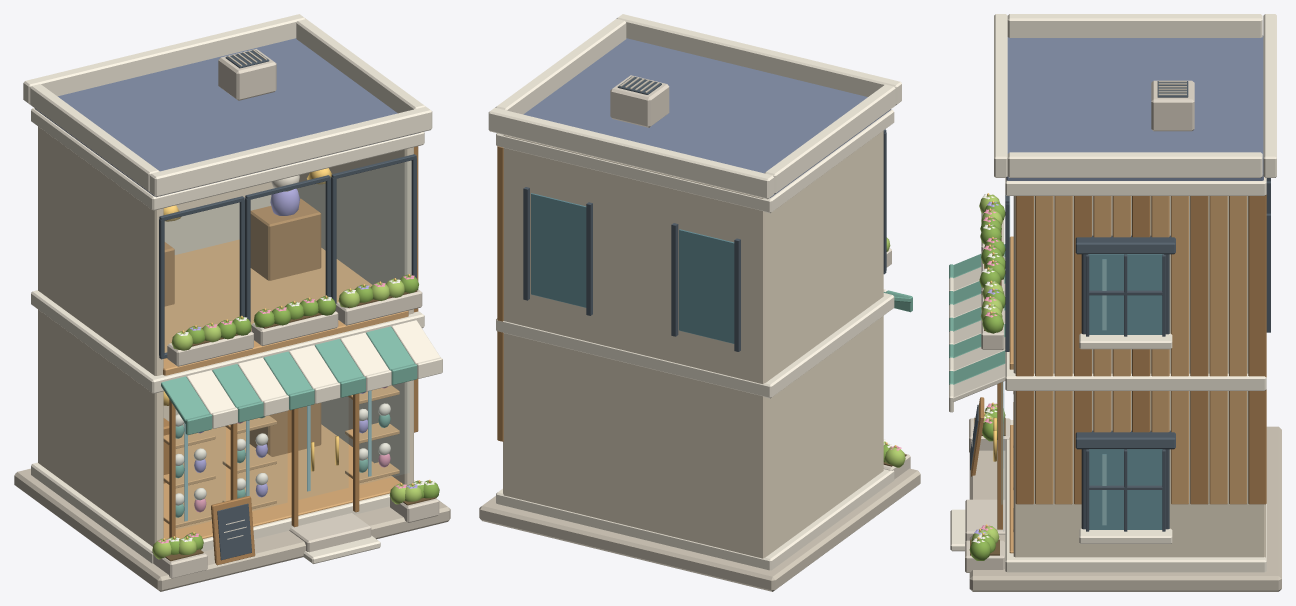
The model's file is home_shop.glb.
3 views of the same model, side by side, from view 1: azimuth 30°, elevation 25°; view 2: azimuth 150°, elevation 25°; view 3: azimuth 270°, elevation 25° (orthographic). The views are drawn at different scales.
Parts seen in each view (by area): view 1: structure.002, roof.002, displays, windows.002, storefront, awning, flowers, entry.002, signage.001, cladding; view 2: structure.002, roof.002, windows.002, cladding, flowers; view 3: cladding, roof.002, structure.002, windows.002, flowers, awning, entry.002, displays, storefront, signage.001.
Boxes of the visible parts, box(x1,y1,x2,y2) form: structure.002: box(14, 108, 450, 591); roof.002: box(23, 14, 432, 197); displays: box(163, 168, 408, 539); windows.002: box(159, 154, 416, 359); storefront: box(169, 382, 408, 537); awning: box(161, 320, 442, 434); flowers: box(151, 274, 439, 578); entry.002: box(289, 513, 380, 563); signage.001: box(211, 496, 255, 565); cladding: box(414, 146, 418, 432); structure.002: box(479, 109, 920, 591); roof.002: box(488, 14, 901, 199); windows.002: box(523, 129, 886, 351); cladding: box(497, 146, 503, 441); flowers: box(883, 237, 910, 479); cladding: box(1015, 195, 1266, 504); roof.002: box(994, 14, 1276, 180); structure.002: box(969, 177, 1281, 591); windows.002: box(1005, 178, 1270, 543); flowers: box(965, 193, 1010, 572); awning: box(949, 244, 1005, 412); entry.002: box(950, 499, 1005, 551); displays: box(1009, 236, 1013, 553); storefront: box(993, 381, 1004, 531); signage.001: box(970, 397, 984, 476).
Bounding box in the file's own units: 5 × 6.7 × 4.5.
